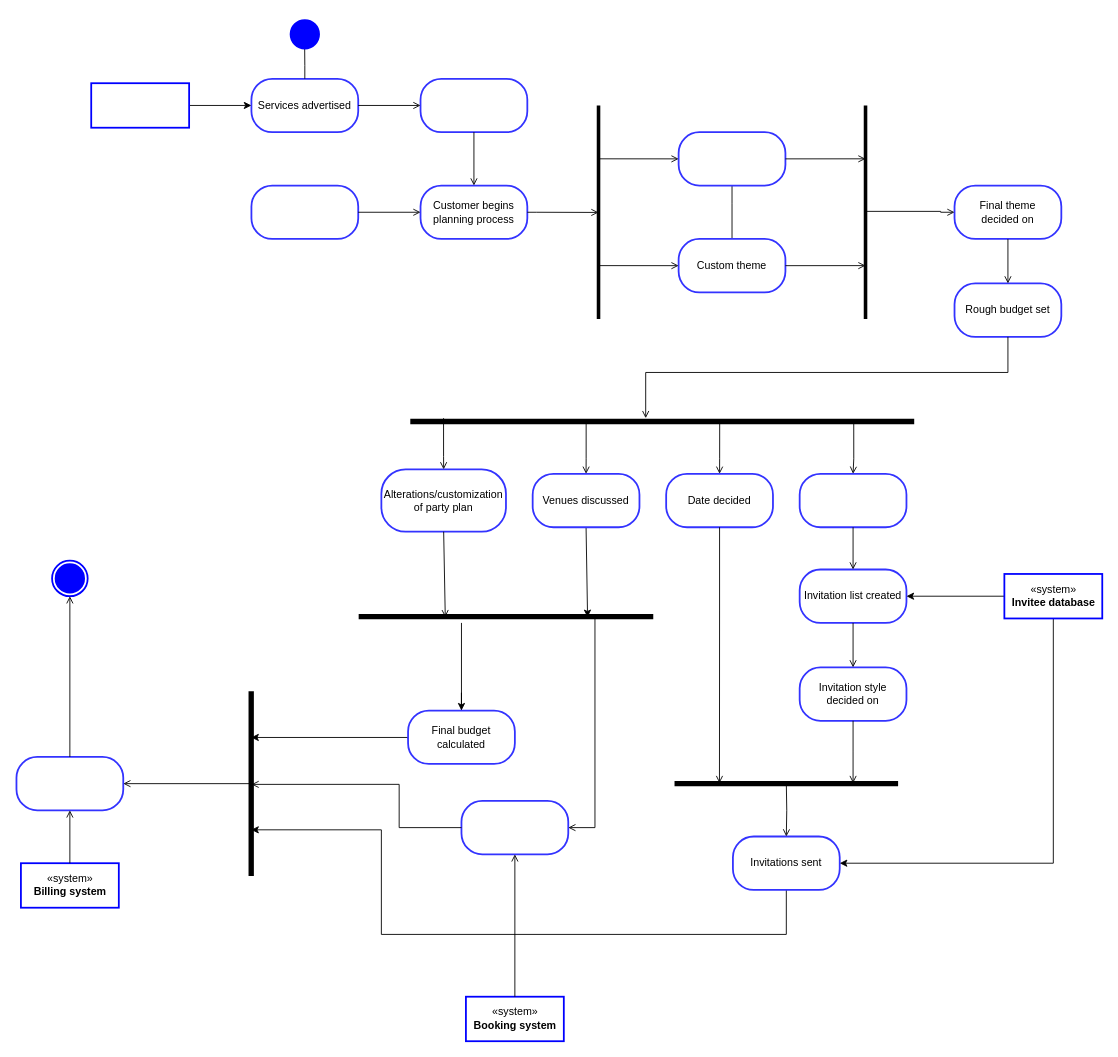
This 1118x1057 diagram has some shape labels left out. The shapes that lost their labels are listed below. From the top down, each one's centre as x and y in pixels, then its label:
At pixel 140 105: "«system» Online marketing".
At pixel 473 105: "Direct customer response".
At pixel 731 158: "Pre-made themes considered".
At pixel 304 211: "Word-of-mouth advertising".
At pixel 852 500: "Size of party specified".
At pixel 69 783: "Customer billed".
At pixel 514 827: "Venue booked".
